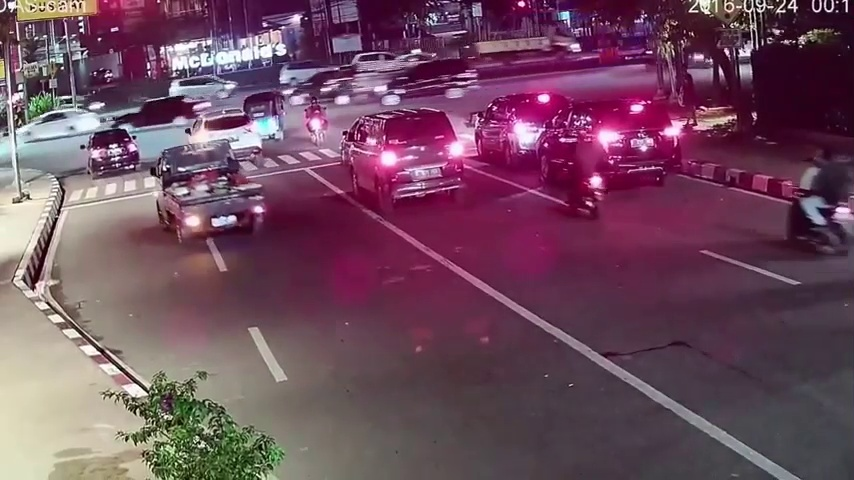car: (534, 103, 675, 193), (154, 145, 268, 241), (352, 113, 463, 211), (470, 96, 564, 165), (191, 109, 260, 165), (86, 129, 141, 177), (245, 91, 289, 145)
motorbike: (788, 146, 854, 259), (562, 131, 606, 217), (305, 98, 327, 150)
